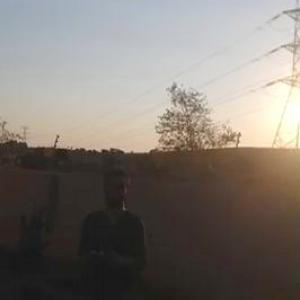follow: (70, 161, 150, 299)
